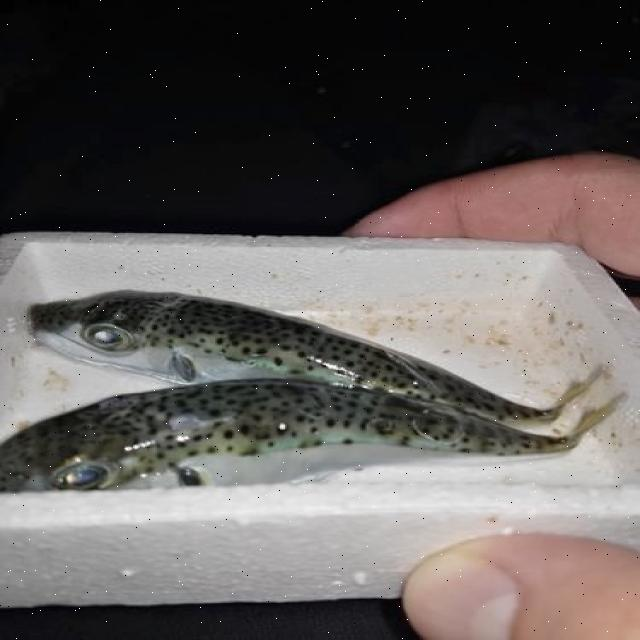Balik: (30, 291, 587, 423), (0, 379, 614, 491)
